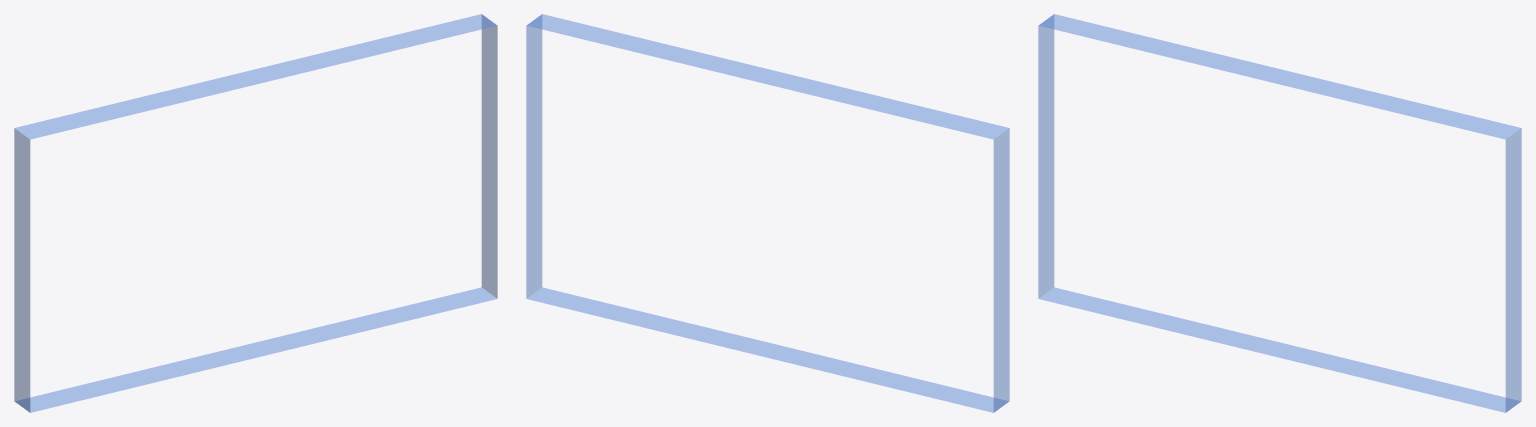
File: original-55.obj
3 renders of one model, left to right at view 1: azimuth 30°, elevation 25°; view 2: azimuth 150°, elevation 25°; view 3: azimuth 330°, elevation 25°, orthographic.
Parts seen in each view (by area): view 1: mesh52/mesh52-geometry/material_1/component_9#mesh52-geometry; view 2: mesh52/mesh52-geometry/material_1/component_9#mesh52-geometry; view 3: mesh52/mesh52-geometry/material_1/component_9#mesh52-geometry.
Part boxes in pixels (x1,y1,x2,y2): mesh52/mesh52-geometry/material_1/component_9#mesh52-geometry: [14, 14, 497, 412]; mesh52/mesh52-geometry/material_1/component_9#mesh52-geometry: [526, 14, 1009, 412]; mesh52/mesh52-geometry/material_1/component_9#mesh52-geometry: [1038, 14, 1521, 412].
Size of the model in its own units: 0.0643 by 0.0359 by 0.00378.
